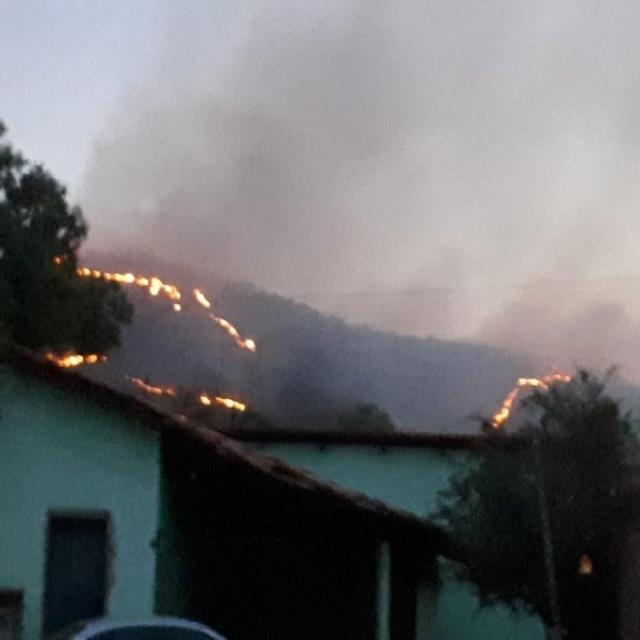Fire: (76, 251, 262, 358), (126, 367, 249, 422), (486, 366, 577, 437), (40, 335, 122, 381)
